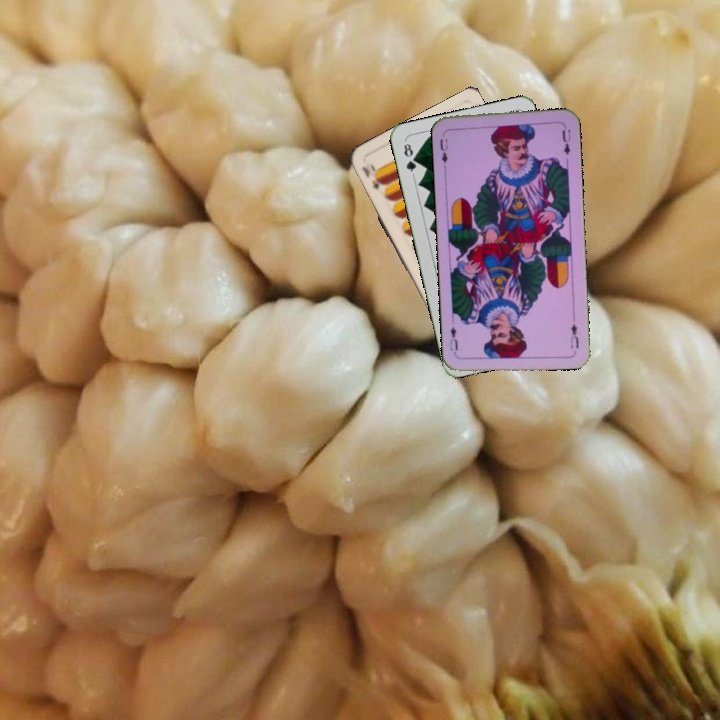E10: (358, 160, 386, 193)
EU: (566, 312, 581, 351), (436, 135, 451, 170)
G8: (400, 137, 419, 178)
